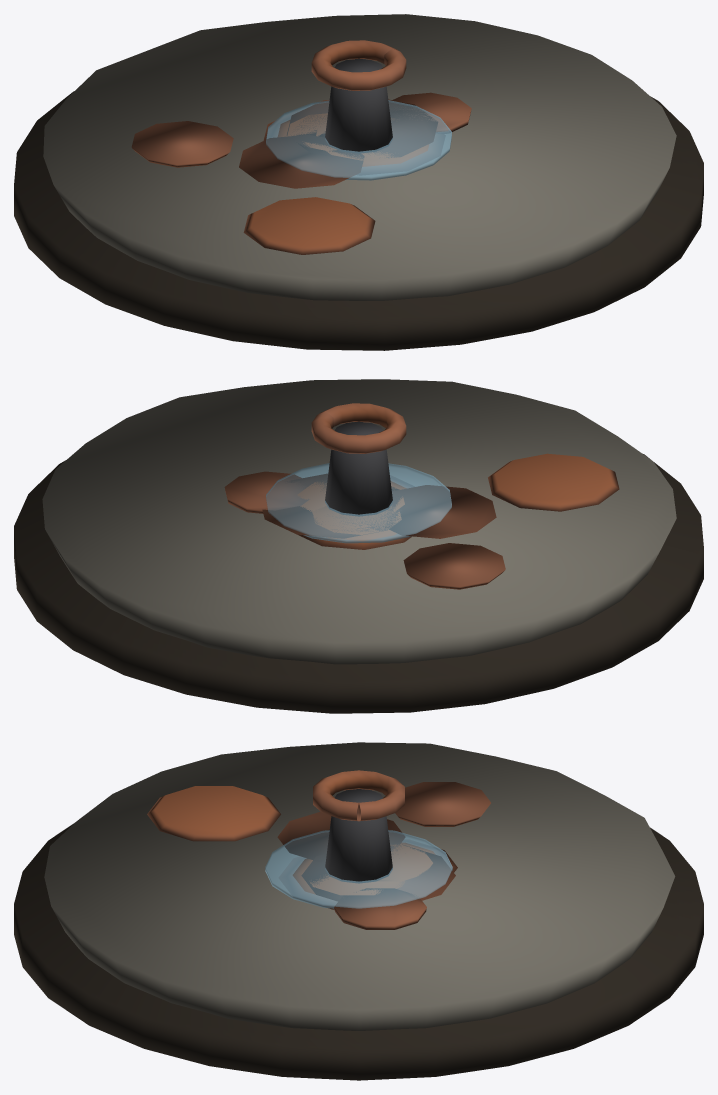
File: kit_trap6.glb
The picture shows the model from 3 angles, top to bottom: view 1: azimuth 30°, elevation 25°; view 2: azimuth 150°, elevation 25°; view 3: azimuth 270°, elevation 25°; orthographic projection.
Parts seen in each view (by area): view 1: kit_trap6; view 2: kit_trap6; view 3: kit_trap6.
Part boxes in pixels (box(x1,y1,x2,y2)): kit_trap6: box(14, 14, 703, 350); kit_trap6: box(14, 379, 703, 713); kit_trap6: box(14, 742, 703, 1080).
Size of the model in its own units: 0.81 by 0.192 by 0.81.
